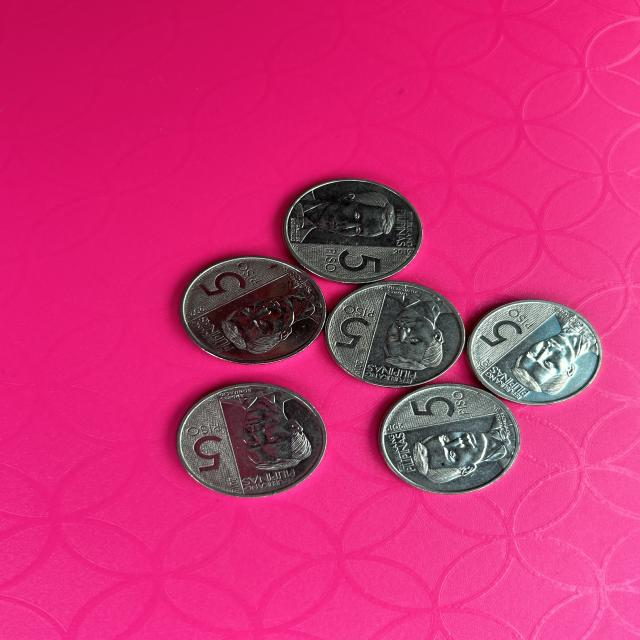5_New_Front: (180, 417, 247, 492), (405, 381, 487, 431), (188, 255, 262, 308), (328, 301, 393, 355), (468, 304, 538, 349), (325, 237, 393, 280)
